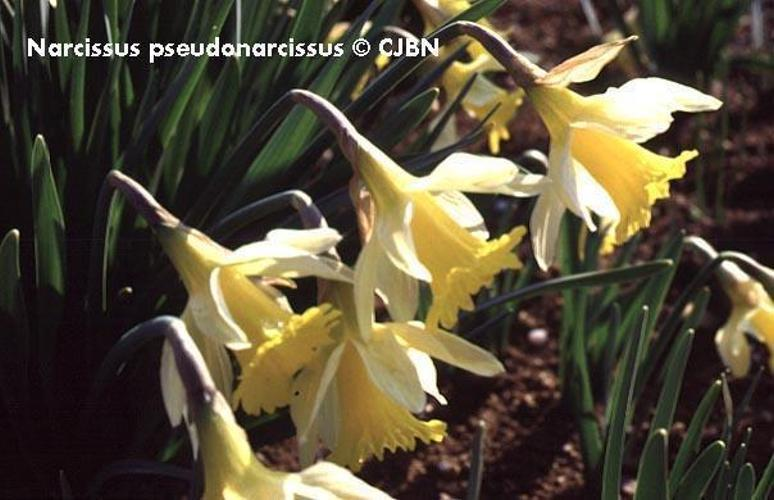flower1: (519, 35, 721, 274), (351, 136, 554, 339), (158, 212, 345, 417)
